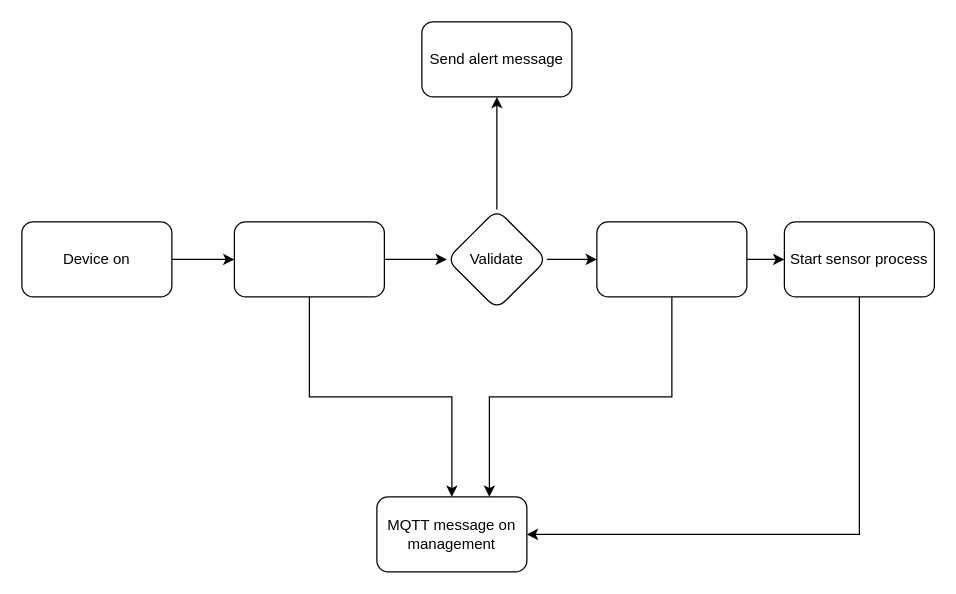
The diagram is 956 pixels wide and 594 high, and some of its shapes have lost their labels. Each missing label, with the box of its shape:
Start manager: (596, 221, 747, 297)
Startup check script: (233, 221, 384, 297)
